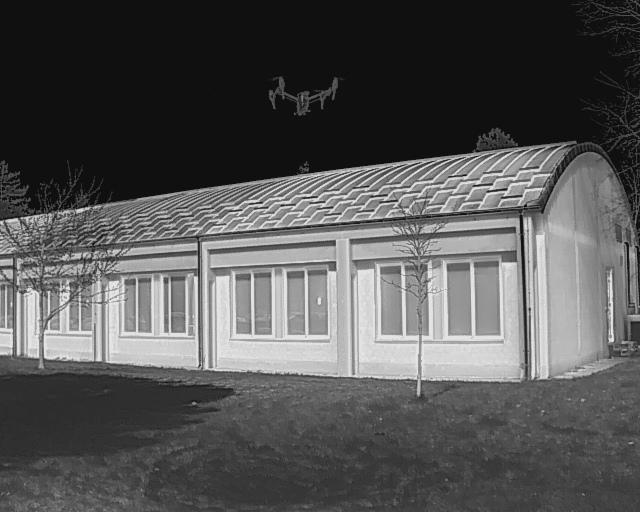drone: (256, 68, 351, 127)
